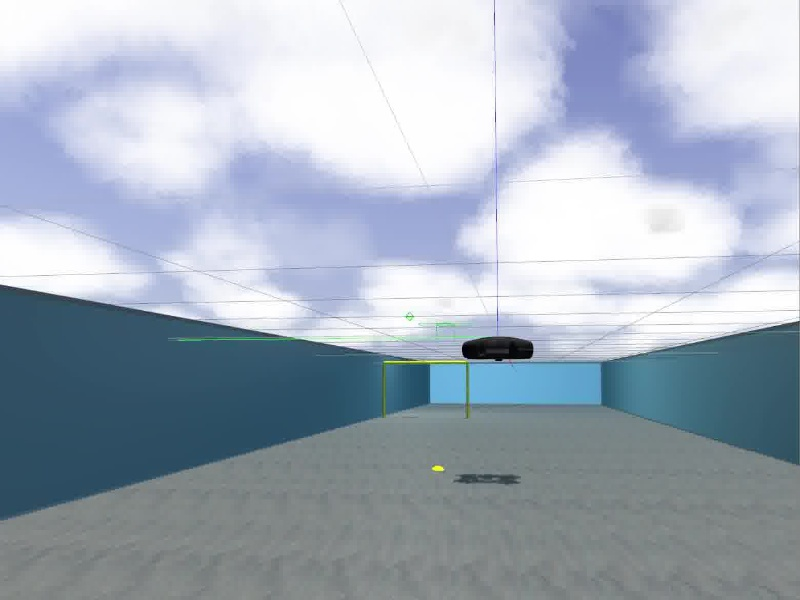gate: (380, 358, 472, 419)
